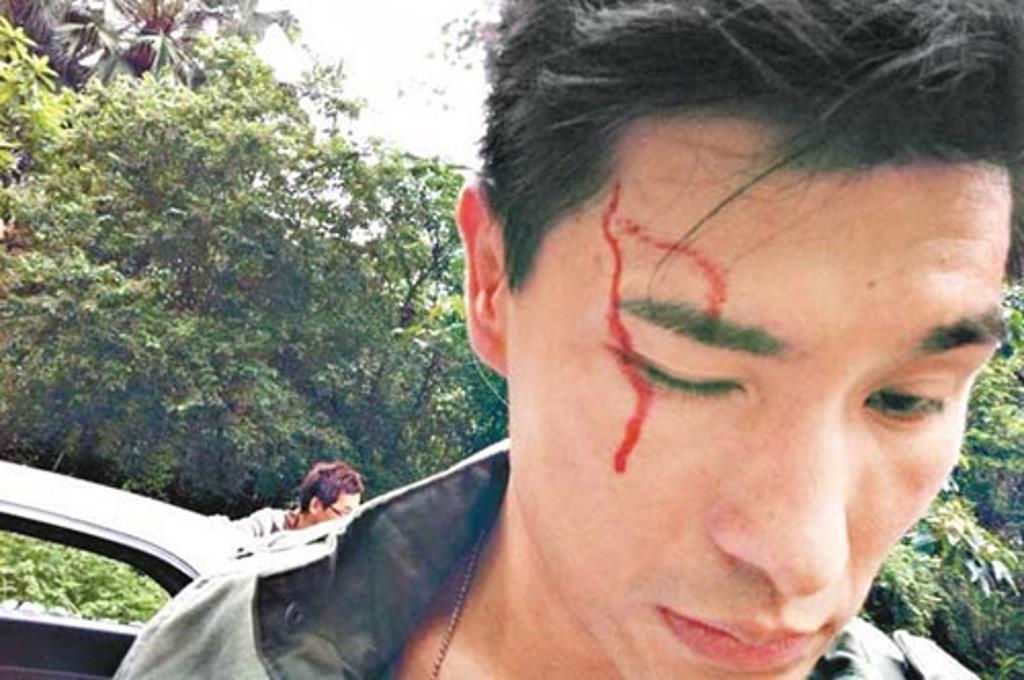face: (510, 176, 1011, 680), (320, 490, 359, 534)
